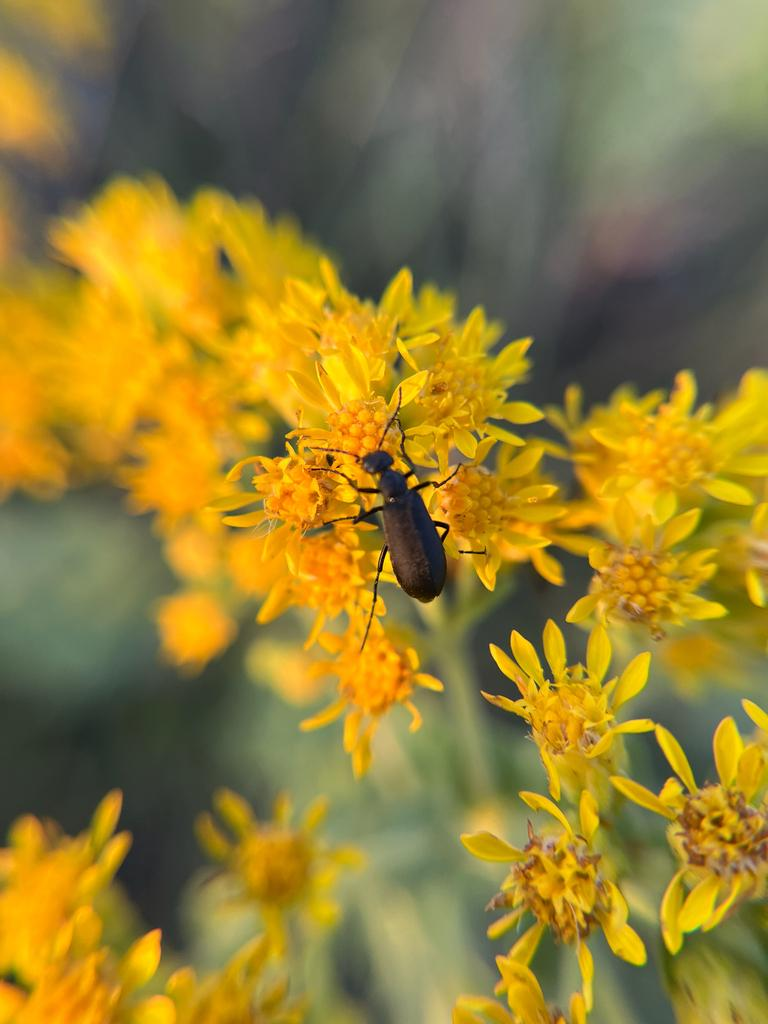blister_beetle: (253, 360, 546, 685)
